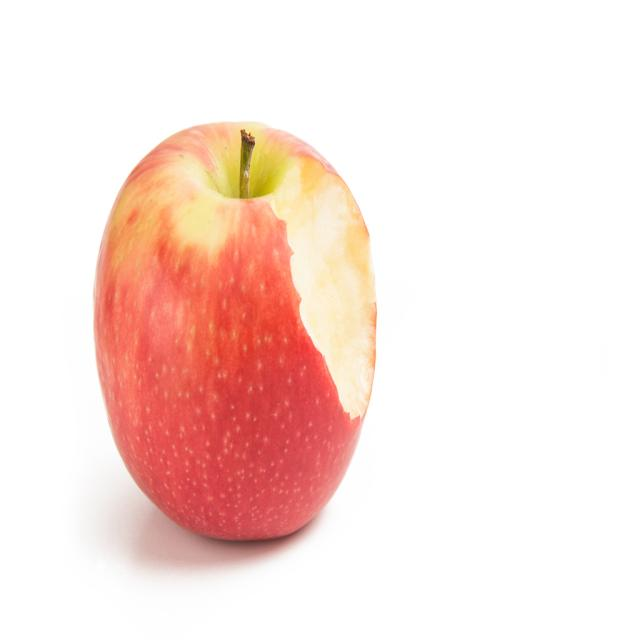Healty Apple: (91, 116, 378, 540)
